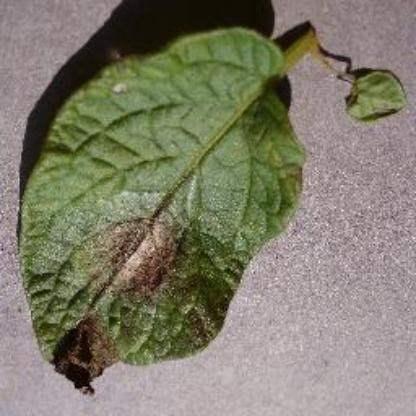Late-Blight: (15, 19, 415, 398)
